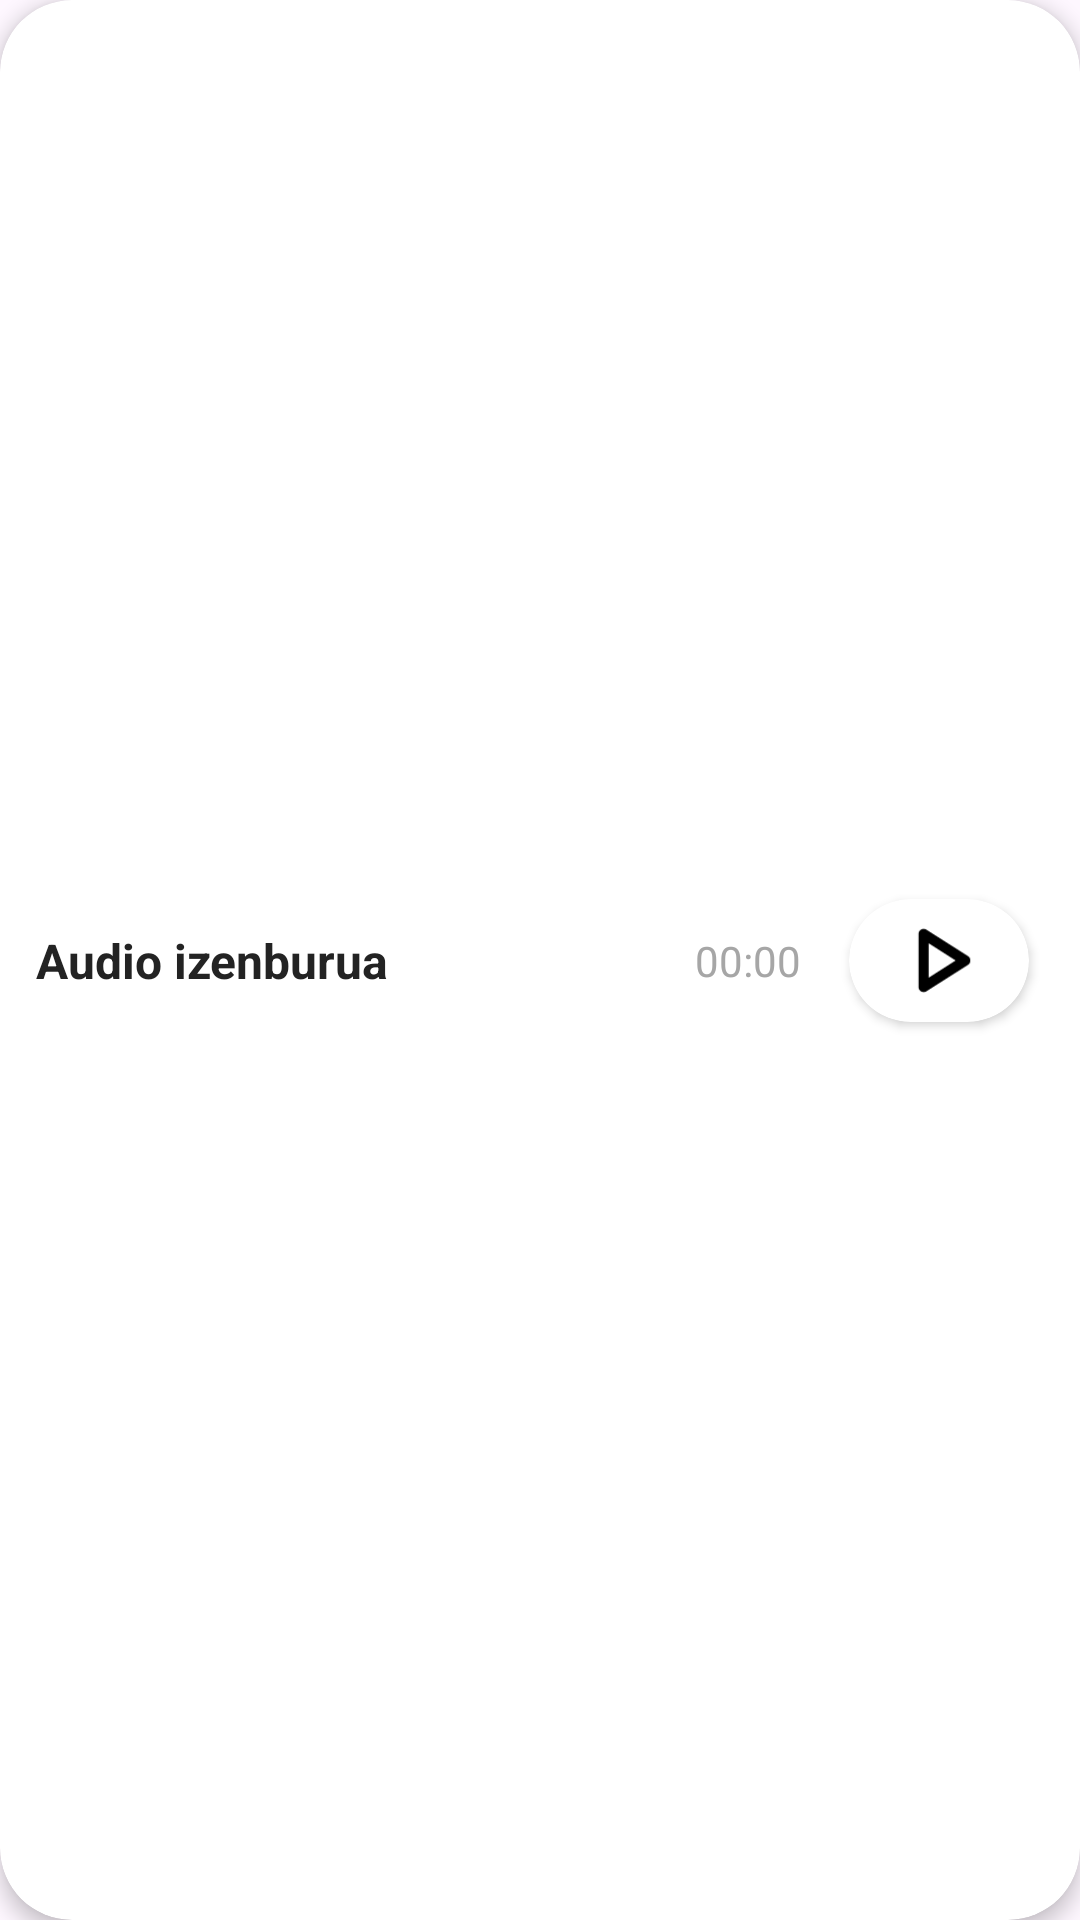

Icon bounding boxes for this 1080px×1920px phone screenshot, format (left=x1, top=y1, right=x2, bottom=y2):
play audio: (left=875, top=928, right=1029, bottom=1022)
